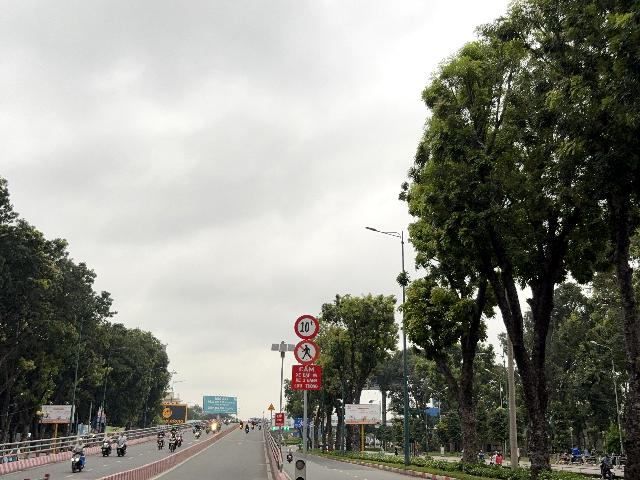cam-nguoi-di-bo: (294, 340, 319, 365)
han-che-trong-luong-xe: (294, 315, 319, 340)
